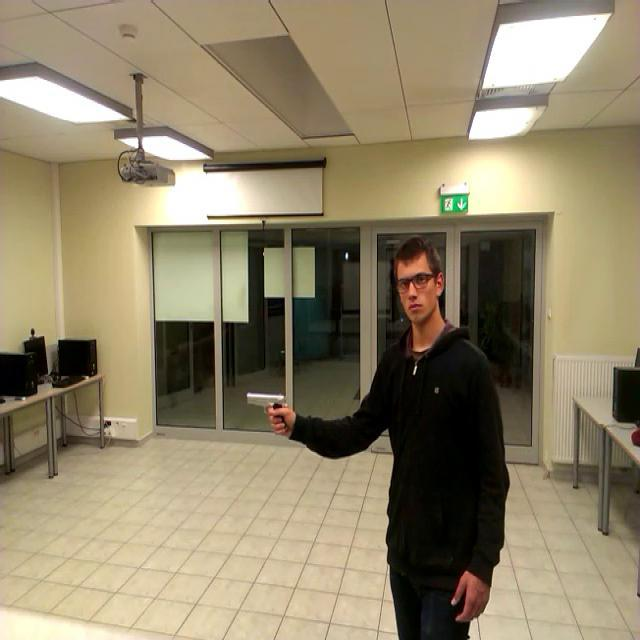Gun: (246, 391, 286, 430)
